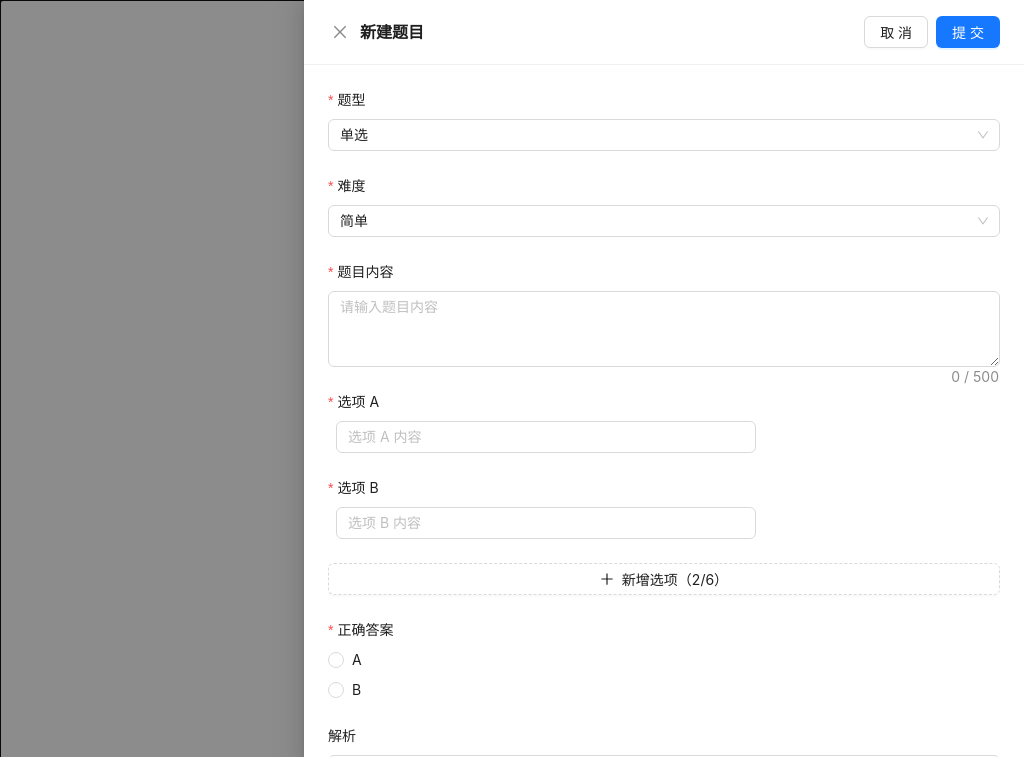
Test: QuestionFormDrawer — 题型切换 UX › 判断切回单选：选项应补默认 A/B
// 切到判断（选项清空）
What coordinates should you click on to do the following:
click the dropdown labelled "题型"
I would click on:
 (354, 100)
Its box is x1=328 y1=89 x2=380 y2=111.
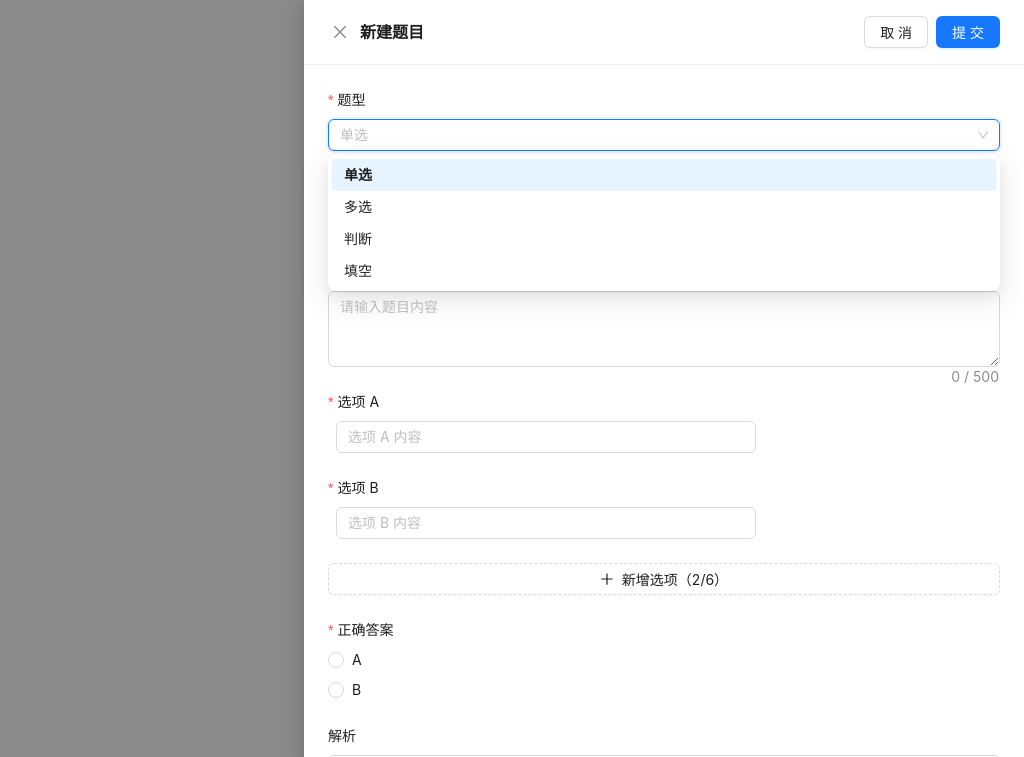
What coordinates should you click on to do the following:
click the text "判断"
I would click on:
 (358, 238)
Its box is x1=344 y1=230 x2=372 y2=247.
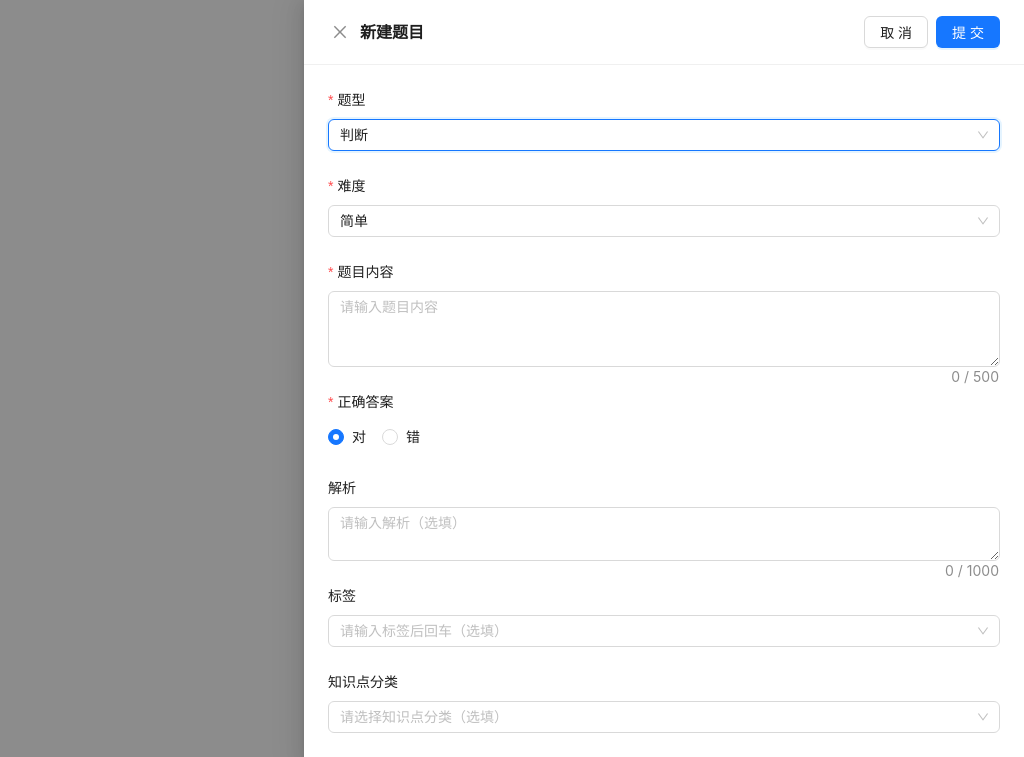
expect the text "选项 A" is gone: met
What coordinates should you click on to do the following:
click the dropdown labelled "题型"
I would click on:
 (354, 100)
Its box is x1=328 y1=89 x2=380 y2=111.
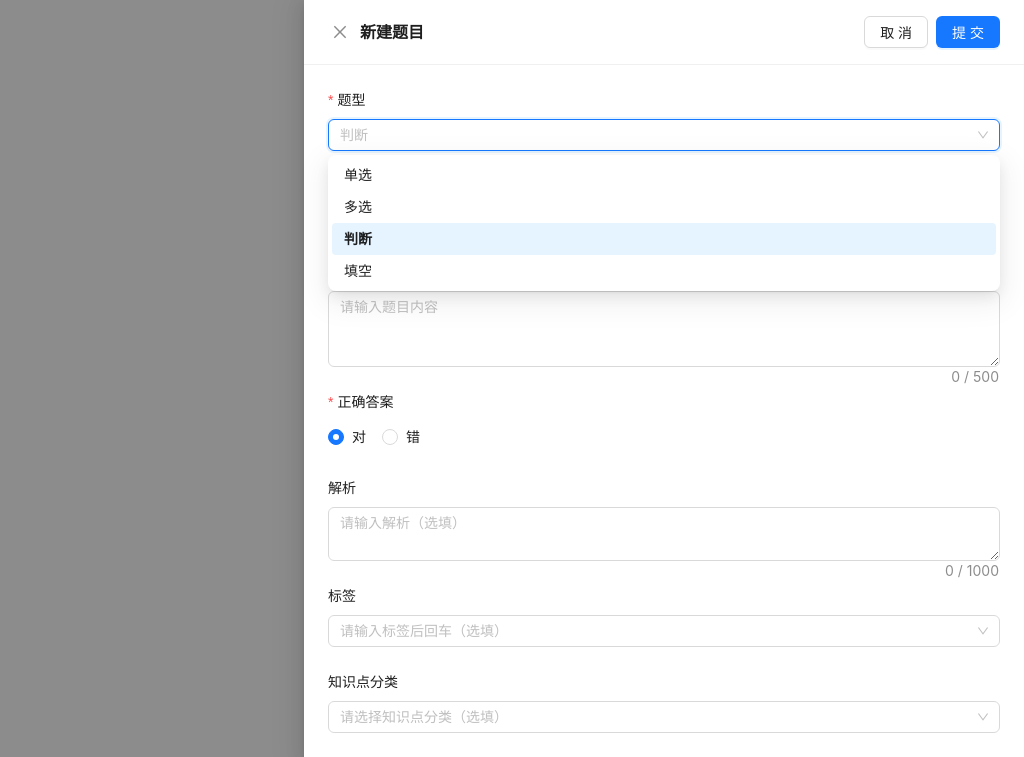
What coordinates should you click on to do the following:
click the text "单选"
I would click on:
 (358, 174)
Its box is x1=344 y1=166 x2=372 y2=183.
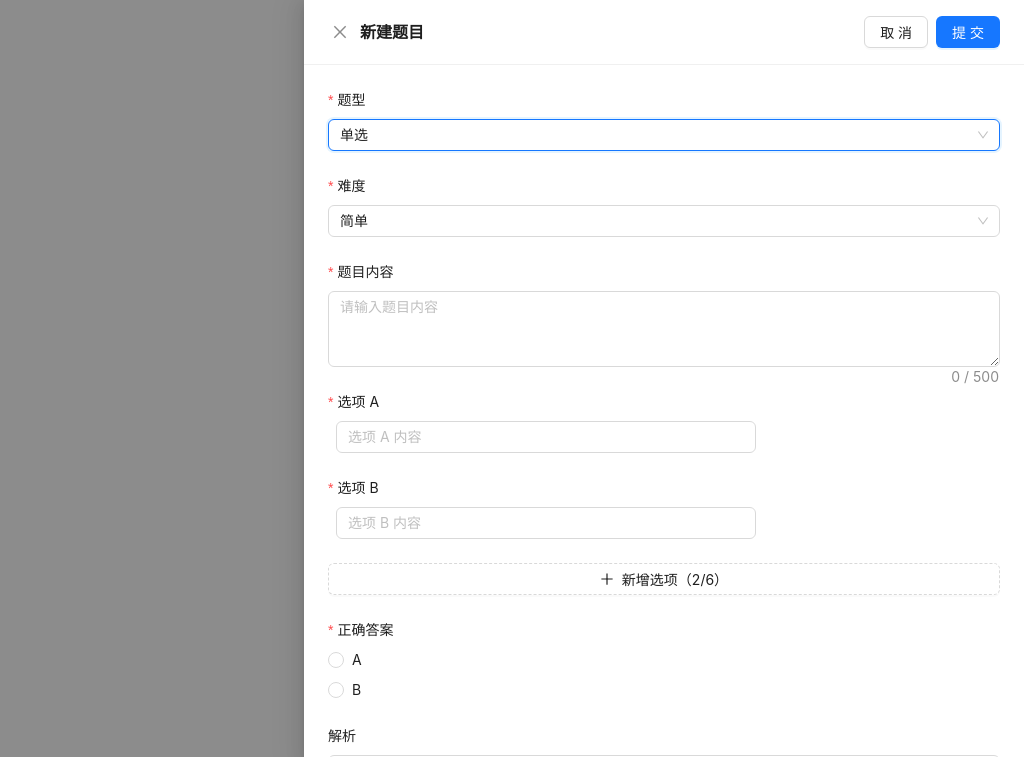
expect the text "选项 A" is shown: met, box x1=328 y1=391 x2=393 y2=413
expect the text "选项 B" is shown: met, box x1=328 y1=477 x2=393 y2=499
